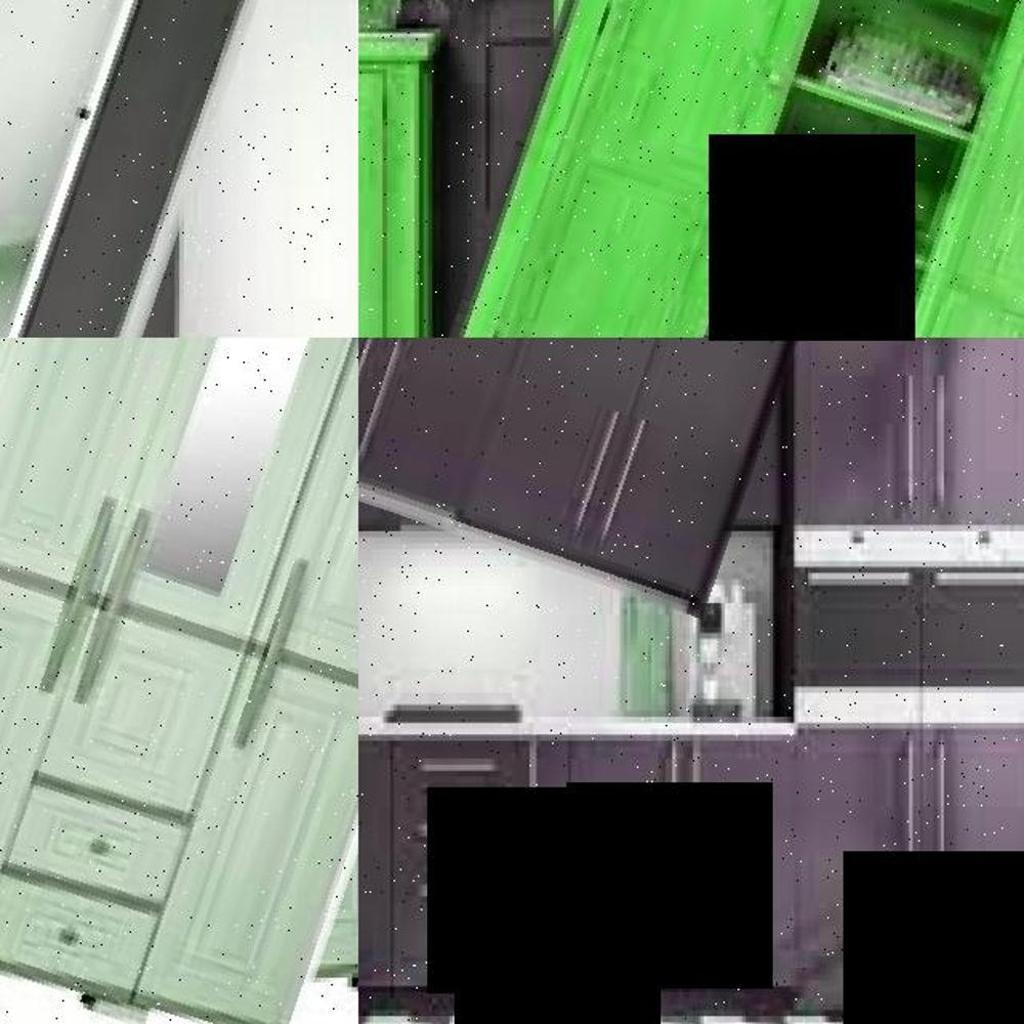cabinet: (0, 338, 358, 1024), (358, 338, 818, 584), (0, 0, 317, 338), (763, 338, 1024, 722)
